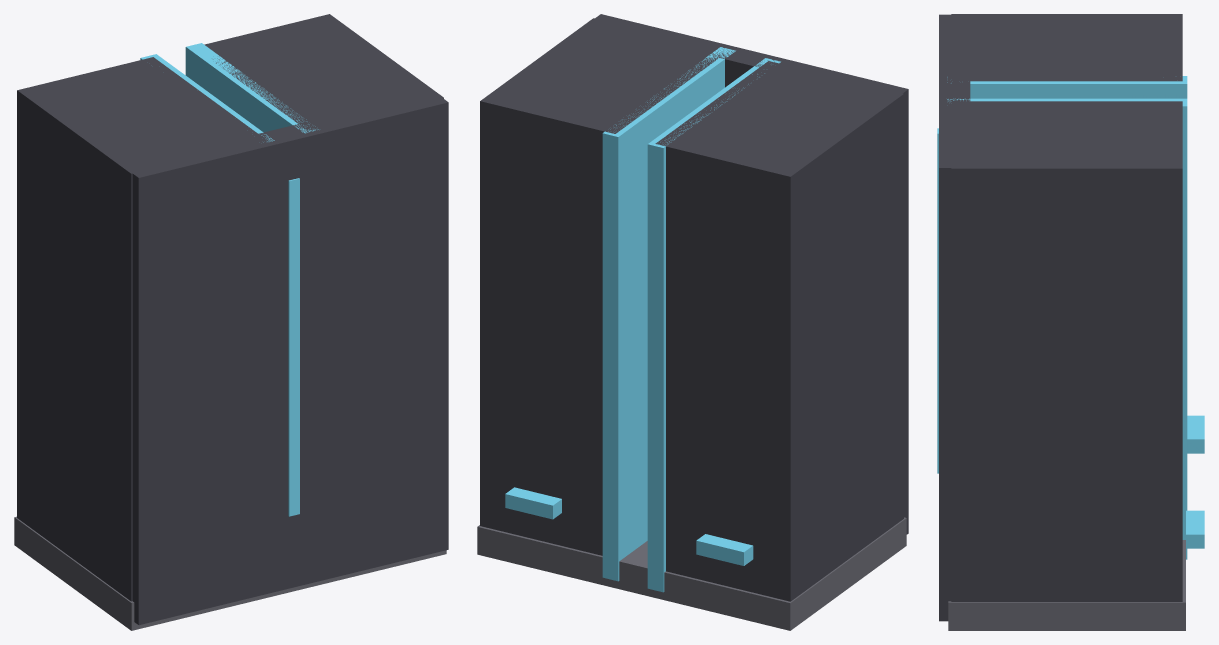
File: cauboi_neon_saia.glb
3 views of the same model, side by side, from view 1: azimuth 30°, elevation 25°; view 2: azimuth 150°, elevation 25°; view 3: azimuth 270°, elevation 25° (orthographic). The views are drawn at different scales.
Parts seen in each view (by area): view 1: cauboi_neon_saia; view 2: cauboi_neon_saia; view 3: cauboi_neon_saia.
Boxes of the visible parts, x1,y1,x2,y2 form: cauboi_neon_saia: [14, 14, 448, 630]; cauboi_neon_saia: [477, 14, 908, 630]; cauboi_neon_saia: [937, 14, 1204, 630].
Bounding box in the file's own units: 0.59 × 0.815 × 0.4275.
